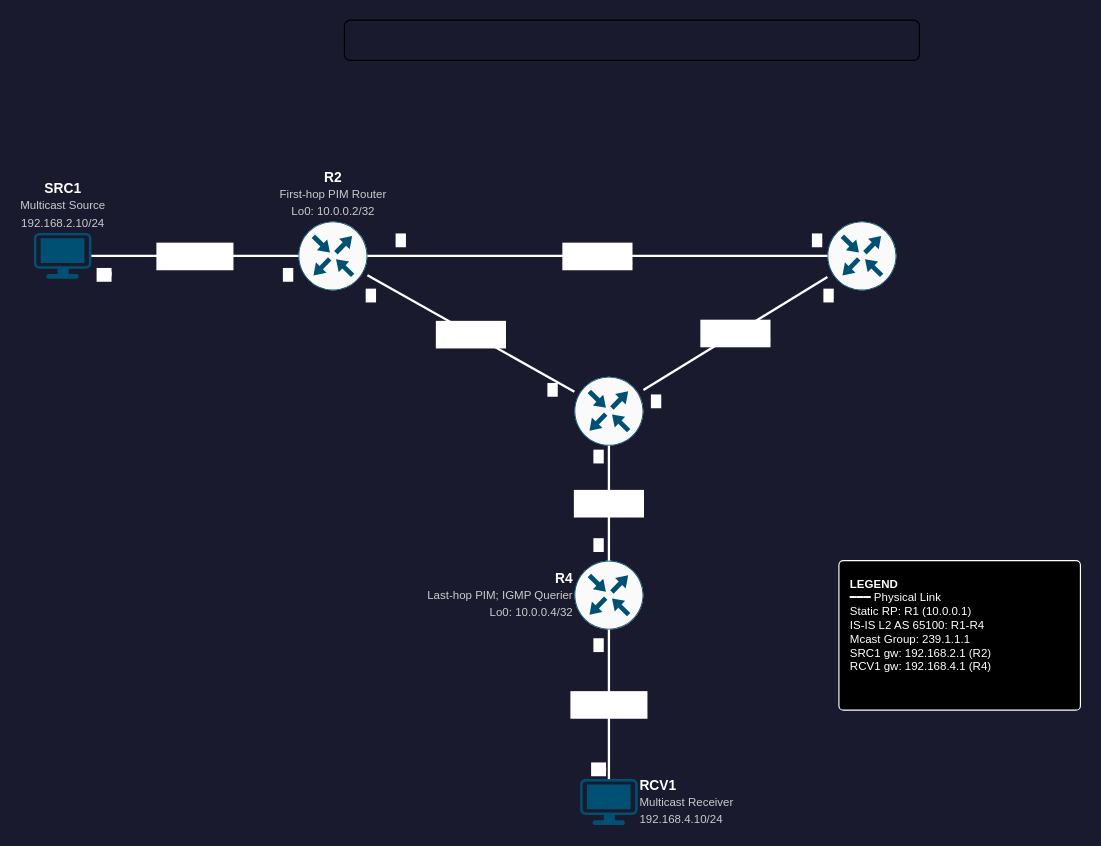
Image size: 1101x846. Some labels were removed from this diagram. Each missing label, with the centre of its shape:
"Lab 00: PIM-SM Foundations" goes at pixel 631 39.
"R1 Static RP; IS-IS Hub Lo0: 10.0.0.1/32" goes at pixel 608 410.
"R3 IS-IS L2 Transit Lo0: 10.0.0.3/32" goes at pixel 861 255.
